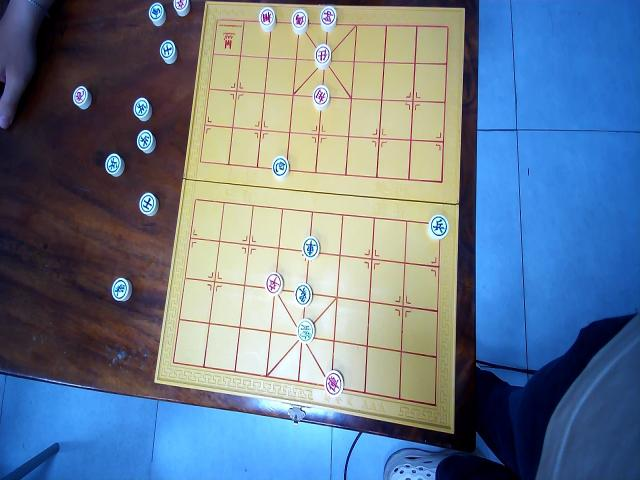piece: (323, 369, 343, 397), (428, 214, 449, 240), (158, 38, 178, 65), (264, 271, 284, 297), (71, 84, 91, 110), (111, 277, 131, 303), (104, 151, 124, 177), (138, 191, 158, 216), (318, 4, 336, 31), (258, 6, 276, 33), (313, 43, 331, 69), (148, 1, 166, 27), (291, 7, 308, 34), (296, 318, 314, 343), (294, 281, 312, 306), (136, 128, 154, 153), (134, 97, 152, 122), (302, 236, 320, 260), (312, 85, 329, 110), (272, 155, 288, 180), (172, 0, 189, 17)
